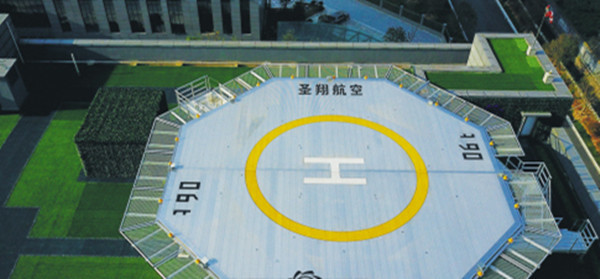H: (304, 157, 366, 184)
